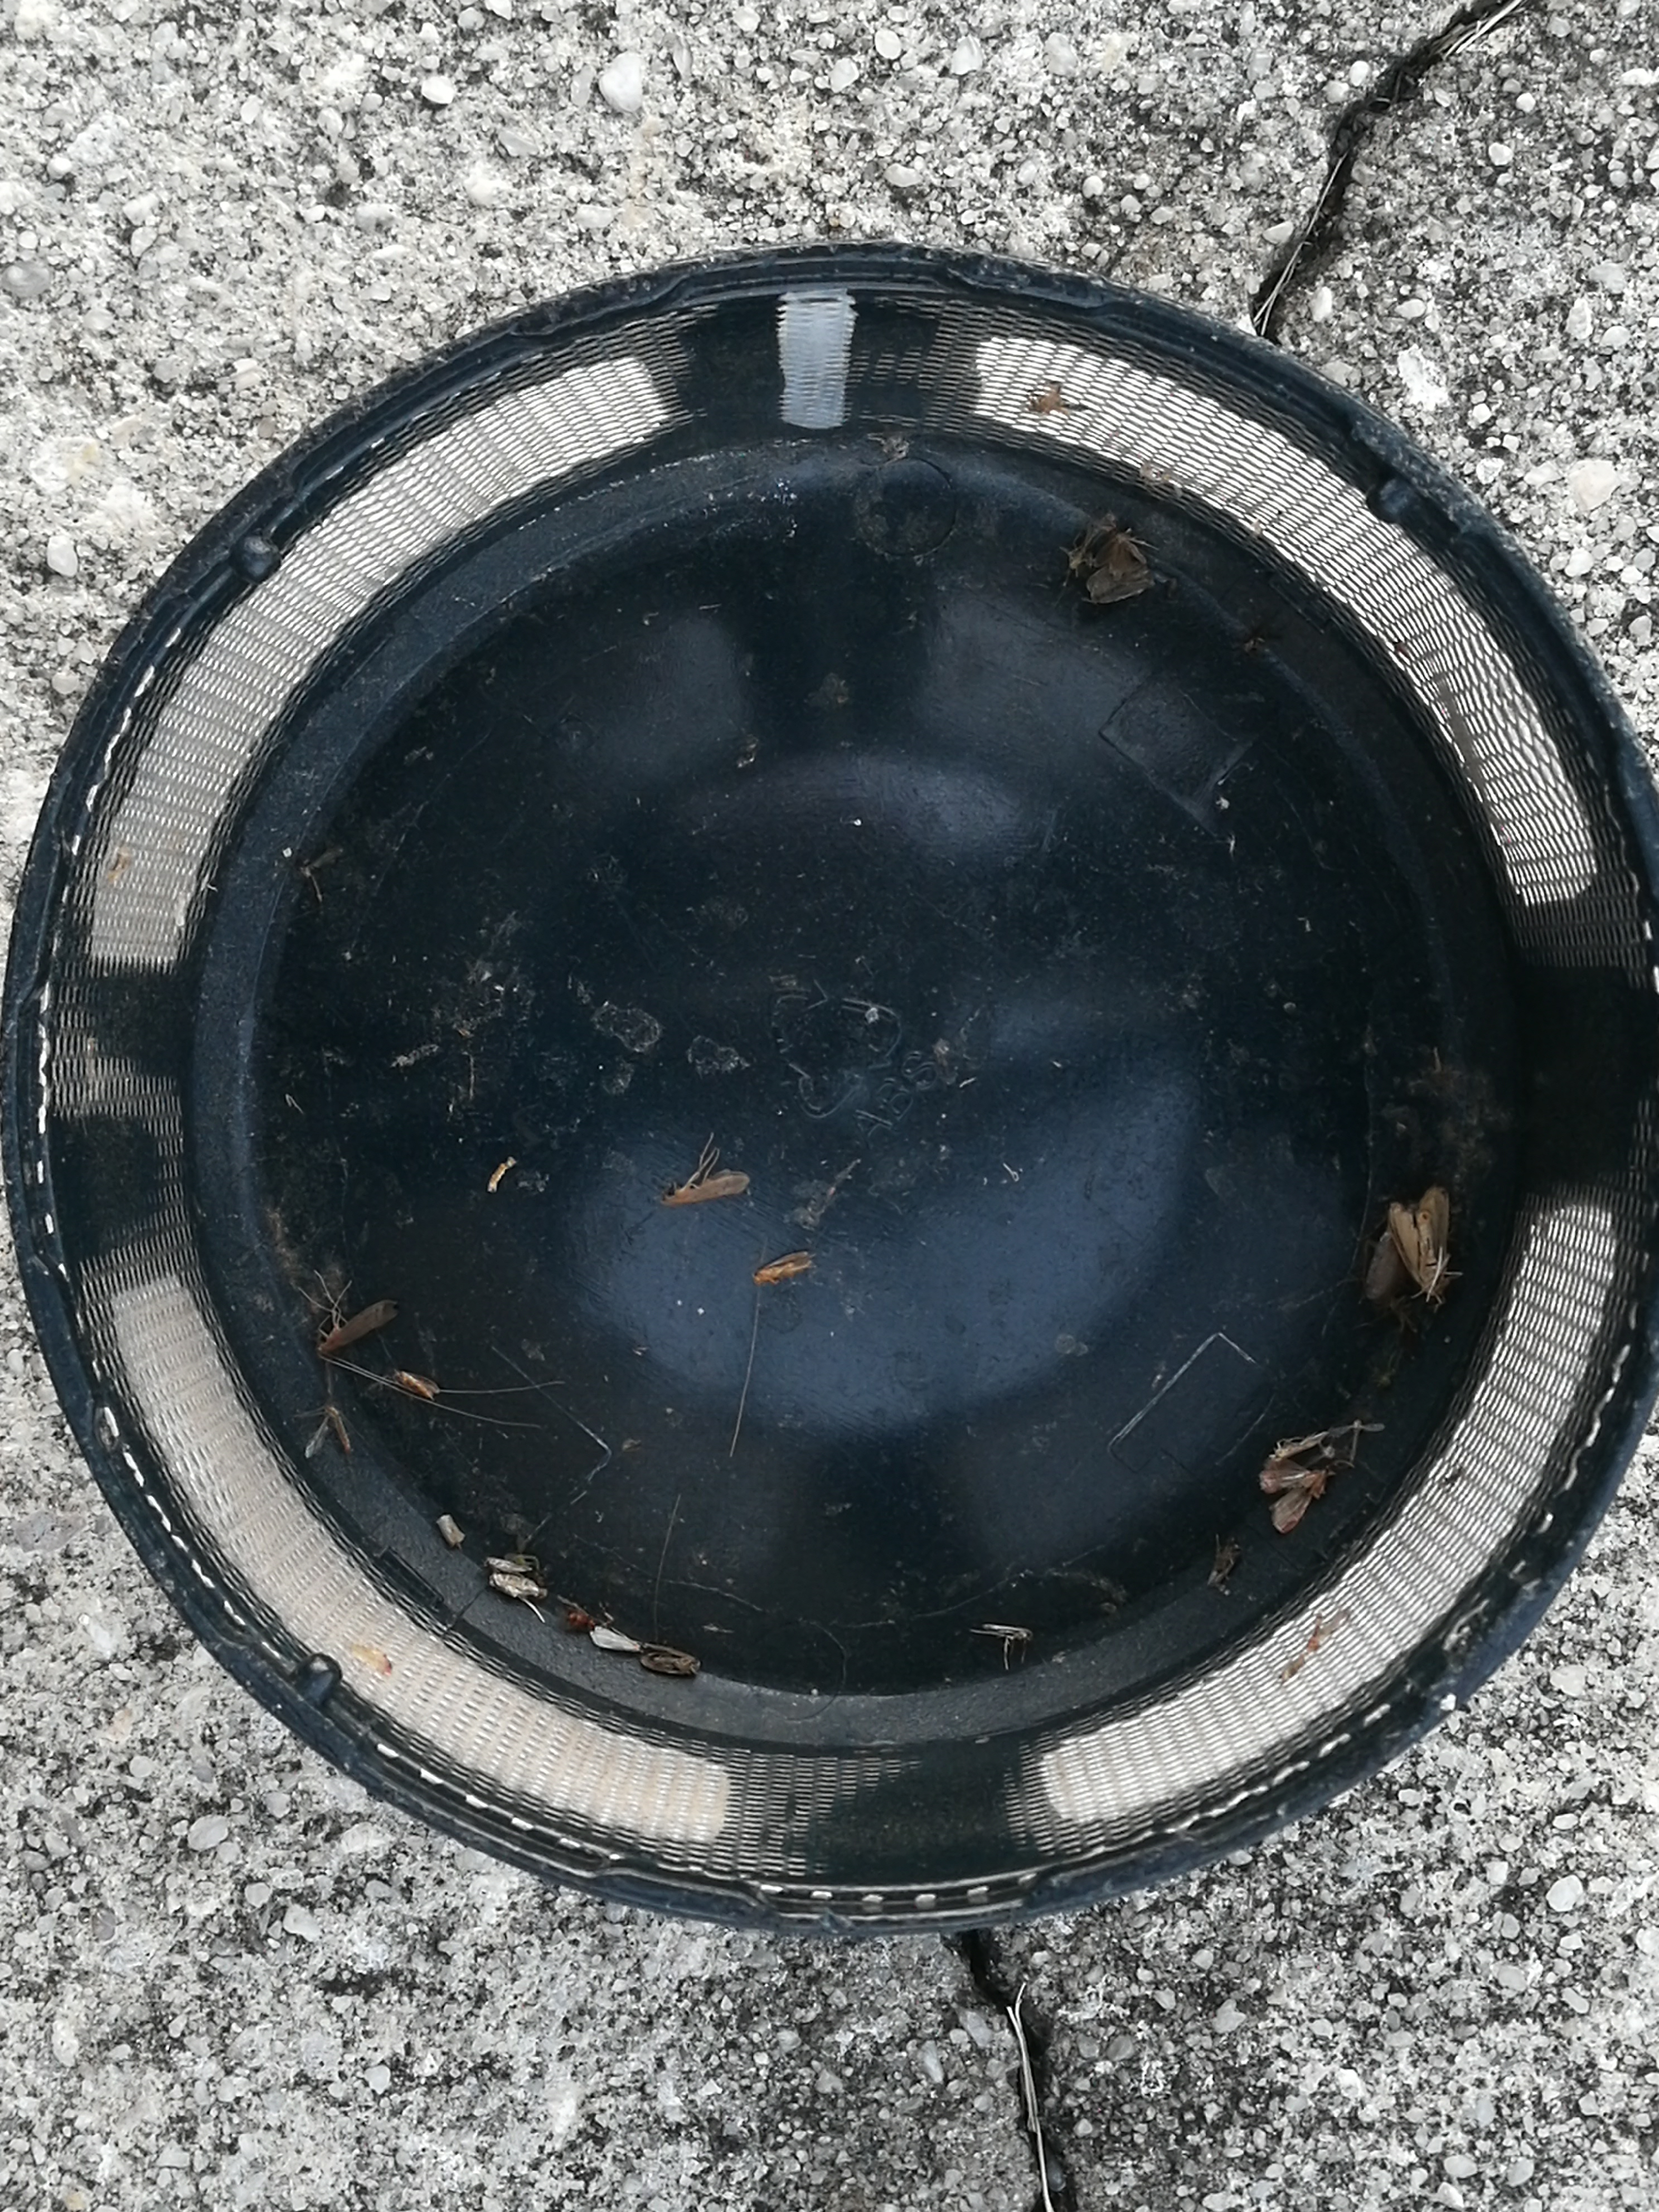mosquito: (317, 1301, 396, 1355), (666, 1172, 748, 1204), (641, 1644, 702, 1677), (753, 1251, 814, 1282), (589, 1629, 645, 1651), (396, 1371, 436, 1402), (486, 1573, 542, 1594), (486, 1559, 533, 1575)
moth: (1389, 1186, 1452, 1296), (1258, 1460, 1328, 1534)
